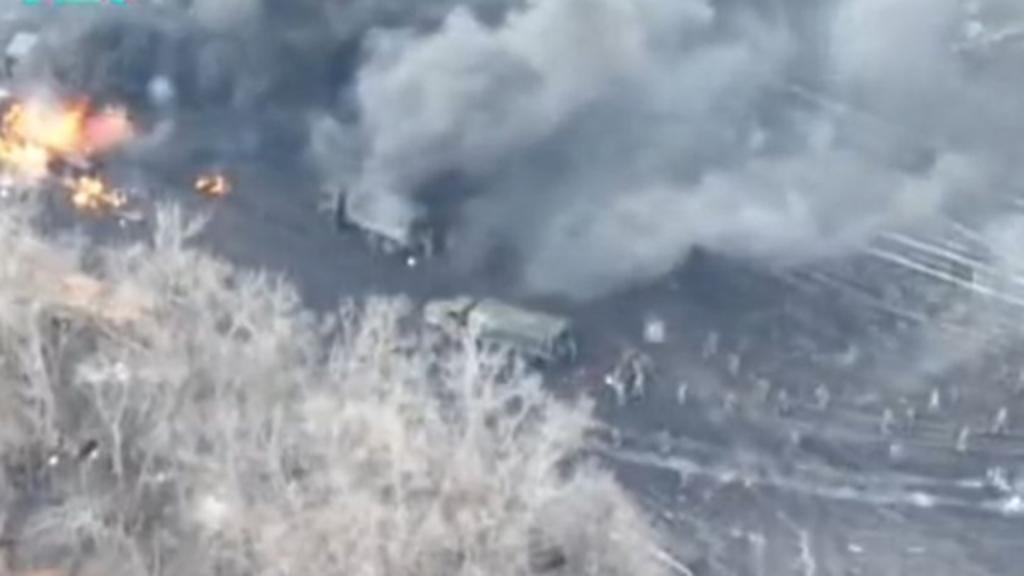TRUCK: (420, 292, 574, 384), (312, 160, 446, 260)
